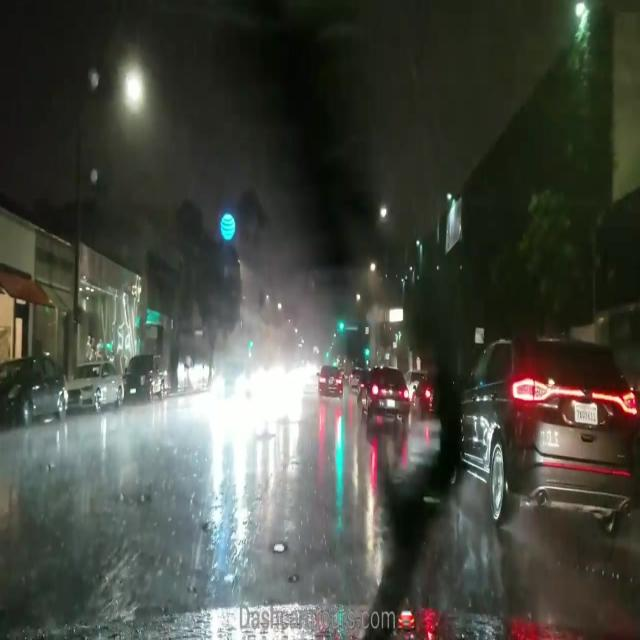Car: (448, 337, 637, 522), (1, 355, 64, 427), (355, 368, 410, 430), (65, 361, 120, 413), (124, 353, 167, 405), (315, 367, 342, 398)
